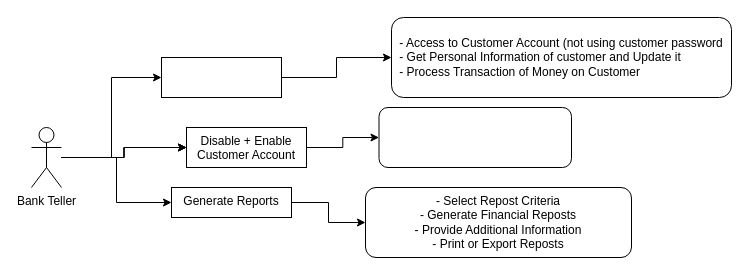
Some shapes in this 749 by 275 pixel diagram are drawn without their labels. Each missing label, with the centre of its shape:
- Ban Customer By ID - Enable New User Account - Verify Identity: point 475,137
Management other Customer: point 221,77
